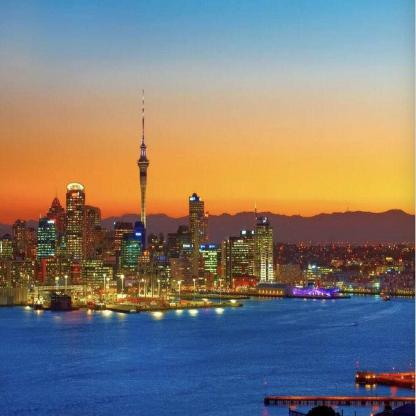other: (189, 137, 410, 226), (90, 272, 244, 322)
